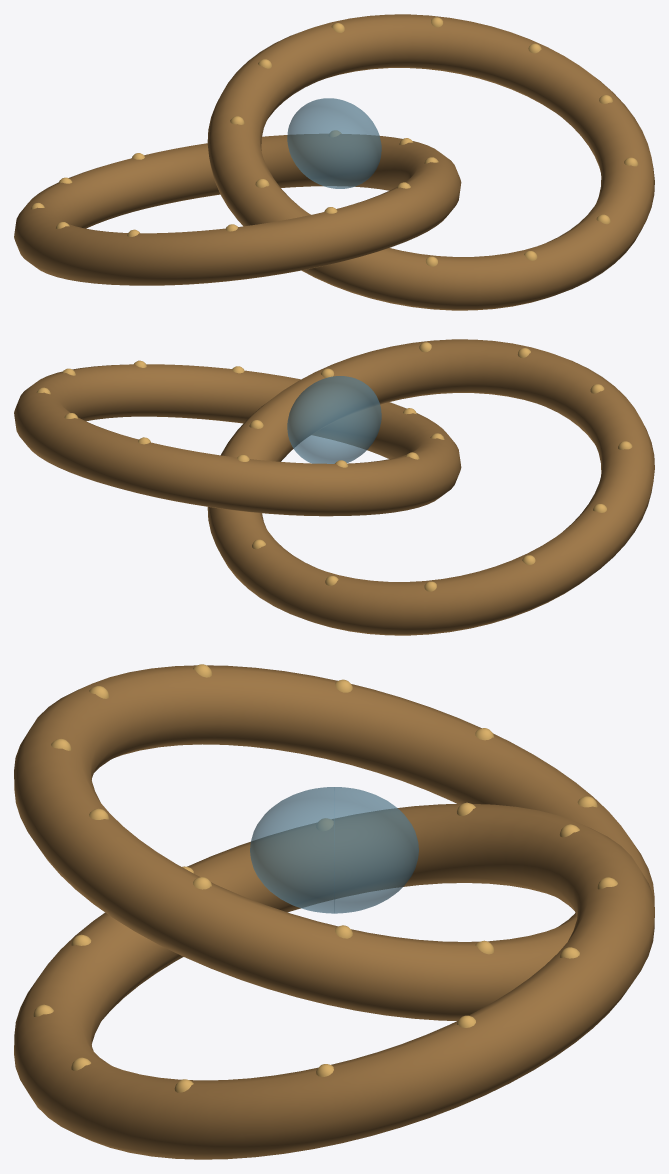
The model's file is linked-rings-v1.glb.
3 views of the same model, one above another, from view 1: azimuth 30°, elevation 25°; view 2: azimuth 150°, elevation 25°; view 3: azimuth 270°, elevation 25° (orthographic). The views are drawn at different scales.
Visible parts, largest first — view 1: LinkedRing.001, LinkedRing, UnionGem; view 2: LinkedRing, LinkedRing.001, UnionGem; view 3: LinkedRing.001, LinkedRing, UnionGem.
Part boxes in pixels (x1,y1,x2,y2): LinkedRing.001: (207, 14, 654, 310); LinkedRing: (14, 134, 461, 285); UnionGem: (287, 98, 381, 188); LinkedRing: (207, 339, 654, 635); LinkedRing.001: (14, 364, 461, 516); UnionGem: (287, 376, 381, 463); LinkedRing.001: (14, 804, 654, 1159); LinkedRing: (14, 665, 654, 1020); UnionGem: (250, 787, 418, 913).
Size of the model in its own units: 1.87 by 0.4558 by 1.21.
